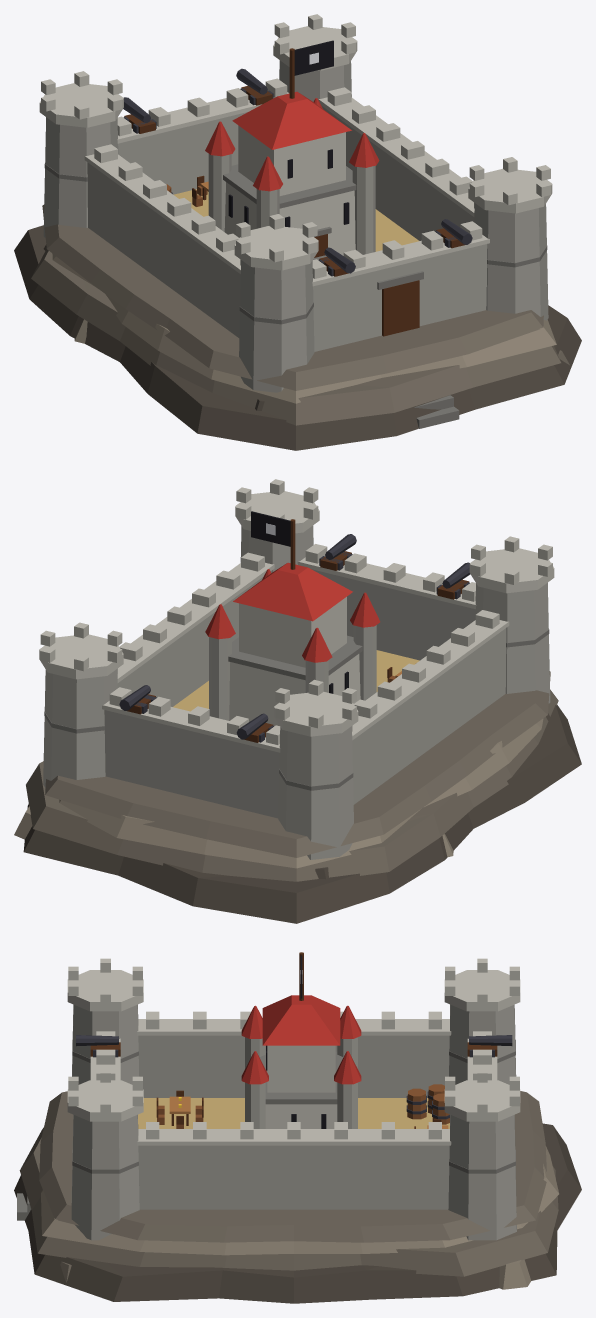
Rendered from sea-fort-3x4.glb.
3 renders of one model, top to bottom at view 1: azimuth 30°, elevation 25°; view 2: azimuth 150°, elevation 25°; view 3: azimuth 270°, elevation 25°, orthographic. The views are drawn at different scales.
Parts seen in each view (by area): view 1: SeaFort3x4; view 2: SeaFort3x4; view 3: SeaFort3x4.
Boxes of the visible parts, bbox=[...] form: SeaFort3x4: bbox=[14, 14, 581, 450]; SeaFort3x4: bbox=[14, 479, 581, 923]; SeaFort3x4: bbox=[14, 952, 581, 1303].
Size of the model in its own units: 2.9 by 1.91 by 3.81.
1 material, 1 textured.
